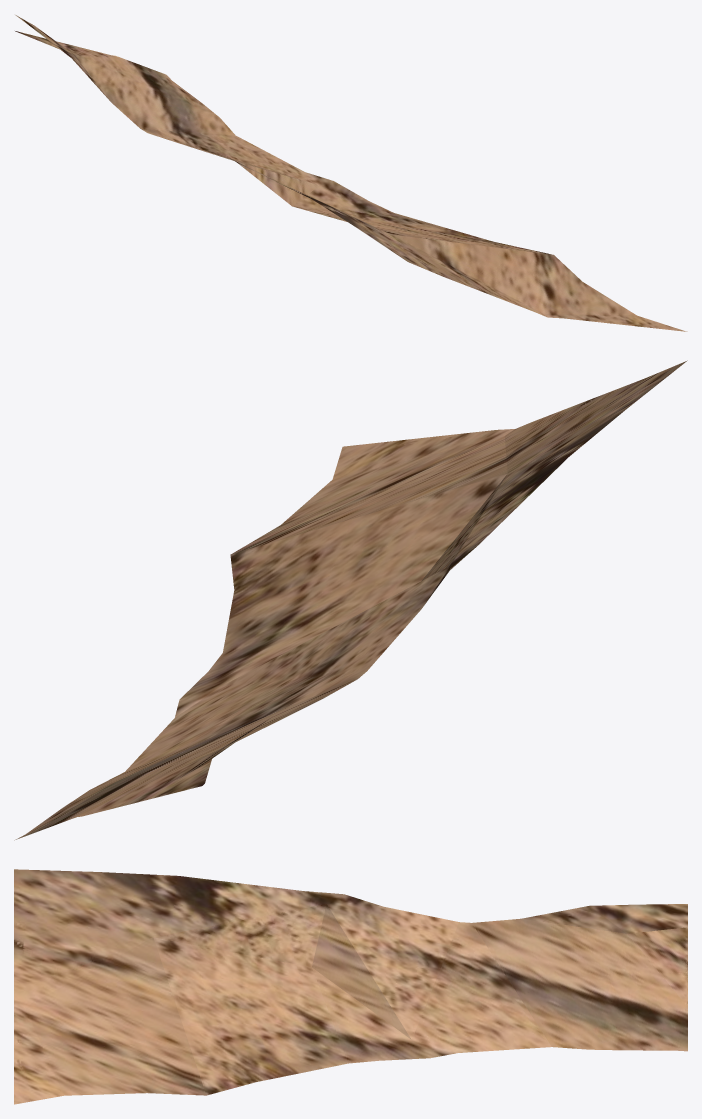
3 renders of one model, top to bottom at view 1: azimuth 30°, elevation 25°; view 2: azimuth 150°, elevation 25°; view 3: azimuth 270°, elevation 25°, orthographic. The views are drawn at different scales.
Bounding box in the file's own units: 0.8577 × 0.4046 × 2.09.
Materials: 1 (1 with a texture image).
